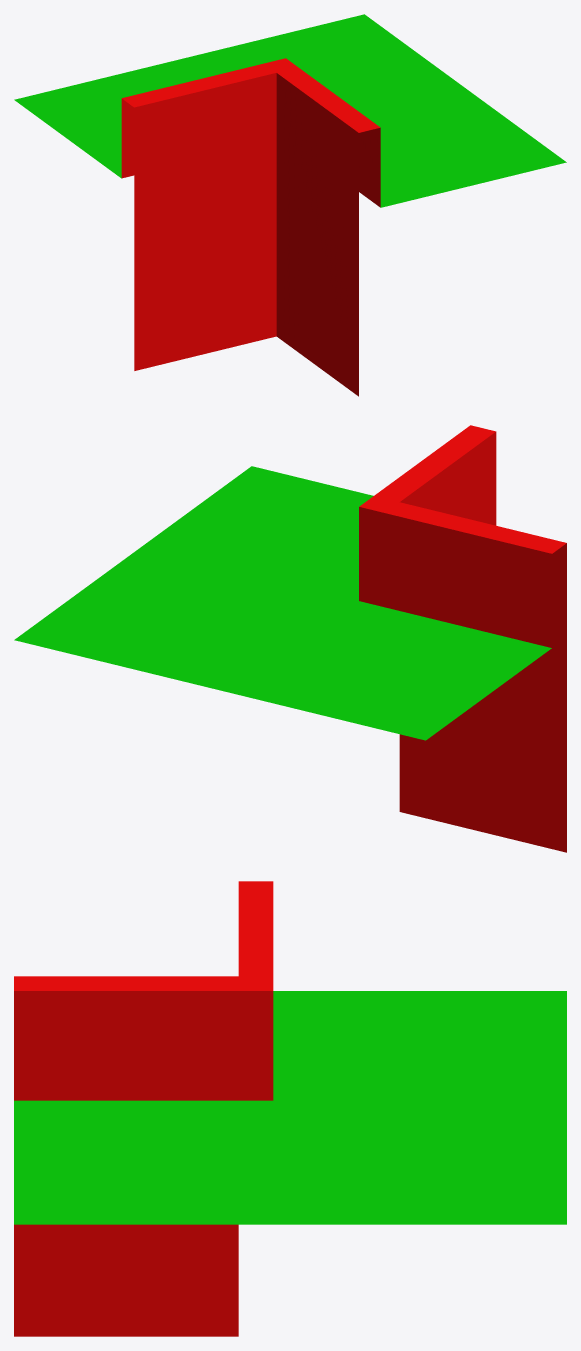
3 views of the same model, one above another, from view 1: azimuth 30°, elevation 25°; view 2: azimuth 150°, elevation 25°; view 3: azimuth 270°, elevation 25° (orthographic). The views are drawn at different scales.
Parts seen in each view (by area): view 1: None_W_W_E_E_W_E_E_E_None; view 2: None_W_W_E_E_W_E_E_E_None; view 3: None_W_W_E_E_W_E_E_E_None.
Part boxes in pixels (<box>): None_W_W_E_E_W_E_E_E_None: <box>14,14,566,396</box>; None_W_W_E_E_W_E_E_E_None: <box>14,425,566,852</box>; None_W_W_E_E_W_E_E_E_None: <box>14,881,566,1336</box>.
Size of the model in its own units: 100 by 71.88 by 100.
